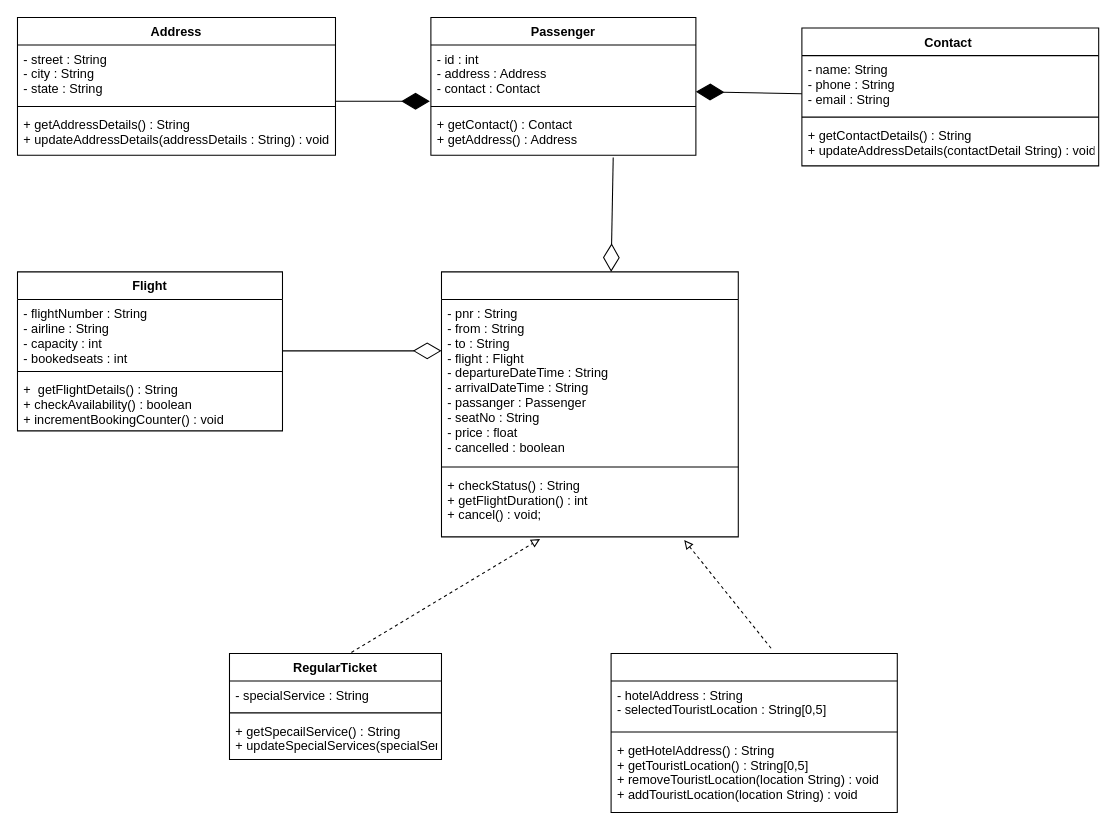
Image size: 1116x830. Some labels were removed from this diagram. Here are the shapes that lost their labels. From the top down, the box of each, then its label:
(440, 271, 738, 537): Ticket
(610, 652, 897, 812): TouristTicket
